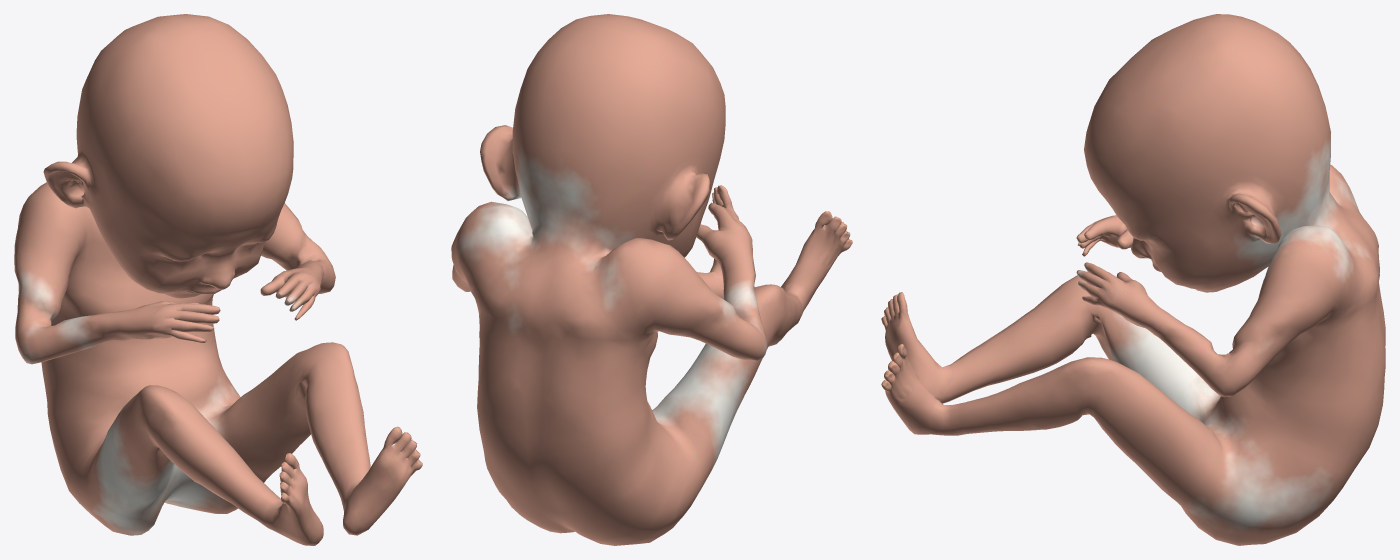
3 views of the same model, side by side, from view 1: azimuth 30°, elevation 25°; view 2: azimuth 150°, elevation 25°; view 3: azimuth 270°, elevation 25° (orthographic).
Visible parts, largest first — view 1: Baby; view 2: Baby; view 3: Baby.
Part boxes in pixels (box(x1,y1,x2,y2)): Baby: box(14, 14, 422, 545); Baby: box(451, 14, 852, 545); Baby: box(881, 14, 1385, 545).
Size of the model in its own units: 0.1755 by 0.2717 by 0.249.
1 material, 1 textured.
